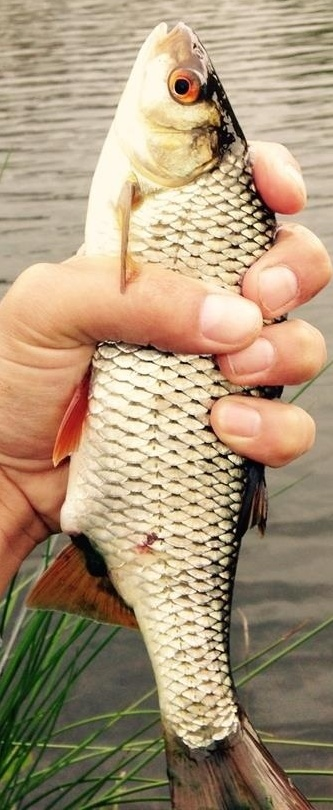Rutilus rutilus: (20, 20, 313, 810)
